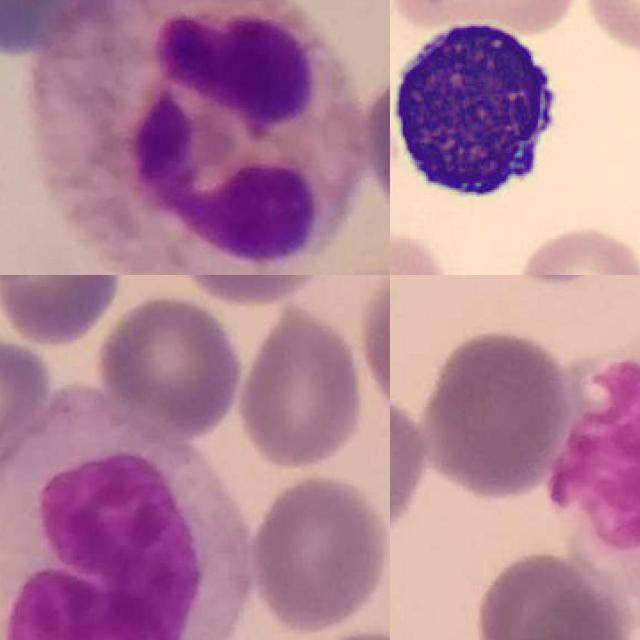Lymphocyte: (390, 8, 573, 216)
Monocyte: (0, 383, 255, 640), (544, 294, 640, 624)
Neutrophil: (32, 0, 364, 275)
RBC: (390, 0, 582, 38), (507, 221, 640, 275)
